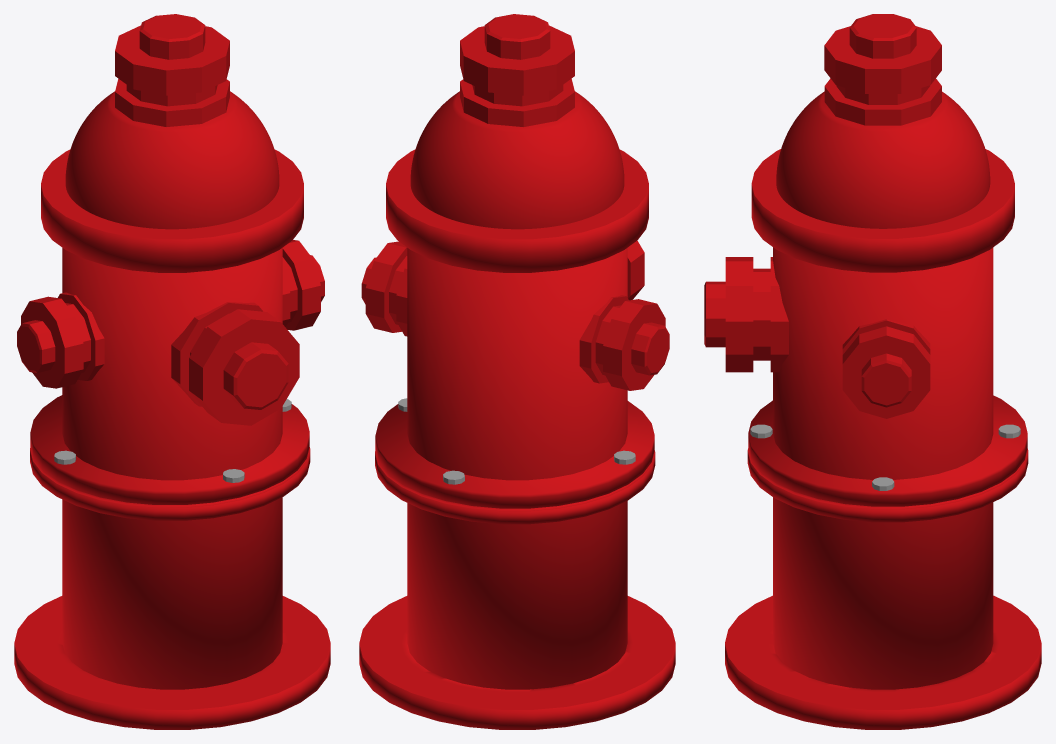
Rendered from firehydrant1.glb.
3 renders of one model, left to right at view 1: azimuth 30°, elevation 25°; view 2: azimuth 150°, elevation 25°; view 3: azimuth 270°, elevation 25°, orthographic.
Visible parts, largest first — view 1: Circle; view 2: Circle; view 3: Circle.
Boxes of the visible parts, x1,y1,x2,y2 form: Circle: (14, 14, 330, 729); Circle: (359, 14, 675, 729); Circle: (704, 14, 1041, 729).
Bounding box in the file's own units: 0.7279 × 1.55 × 0.7454.
Materials: 2 (1 with a texture image).
